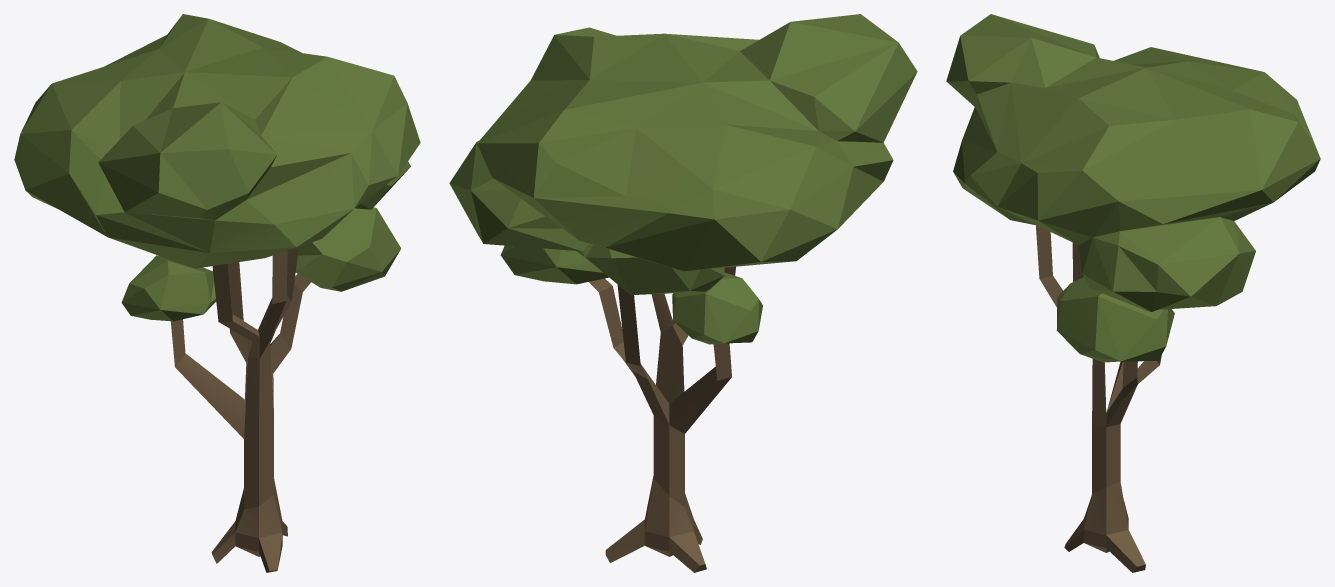
The model's file is tree001.gltf.
3 views of the same model, side by side, from view 1: azimuth 30°, elevation 25°; view 2: azimuth 150°, elevation 25°; view 3: azimuth 270°, elevation 25° (orthographic). The views are drawn at different scales.
Parts seen in each view (by area): view 1: node_tree001_-123288; view 2: node_tree001_-123288; view 3: node_tree001_-123288.
Part boxes in pixels (x1,y1,x2,y2): node_tree001_-123288: (14, 14, 420, 572); node_tree001_-123288: (449, 14, 917, 572); node_tree001_-123288: (946, 14, 1320, 572).
Bounding box in the file's own units: 3.29 × 4.34 × 3.07.
1 material, 1 textured.
